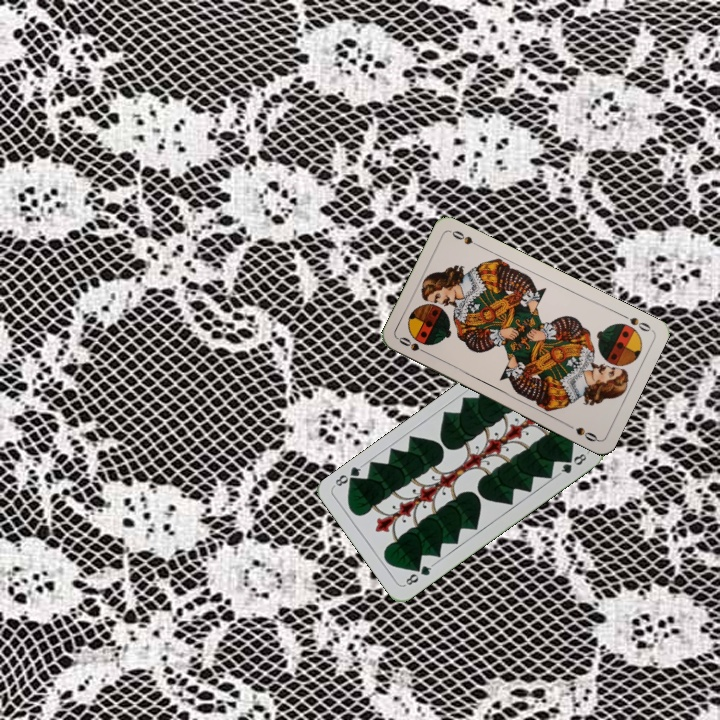G8: (400, 560, 436, 588)
SO: (394, 333, 432, 358), (617, 310, 654, 334)
